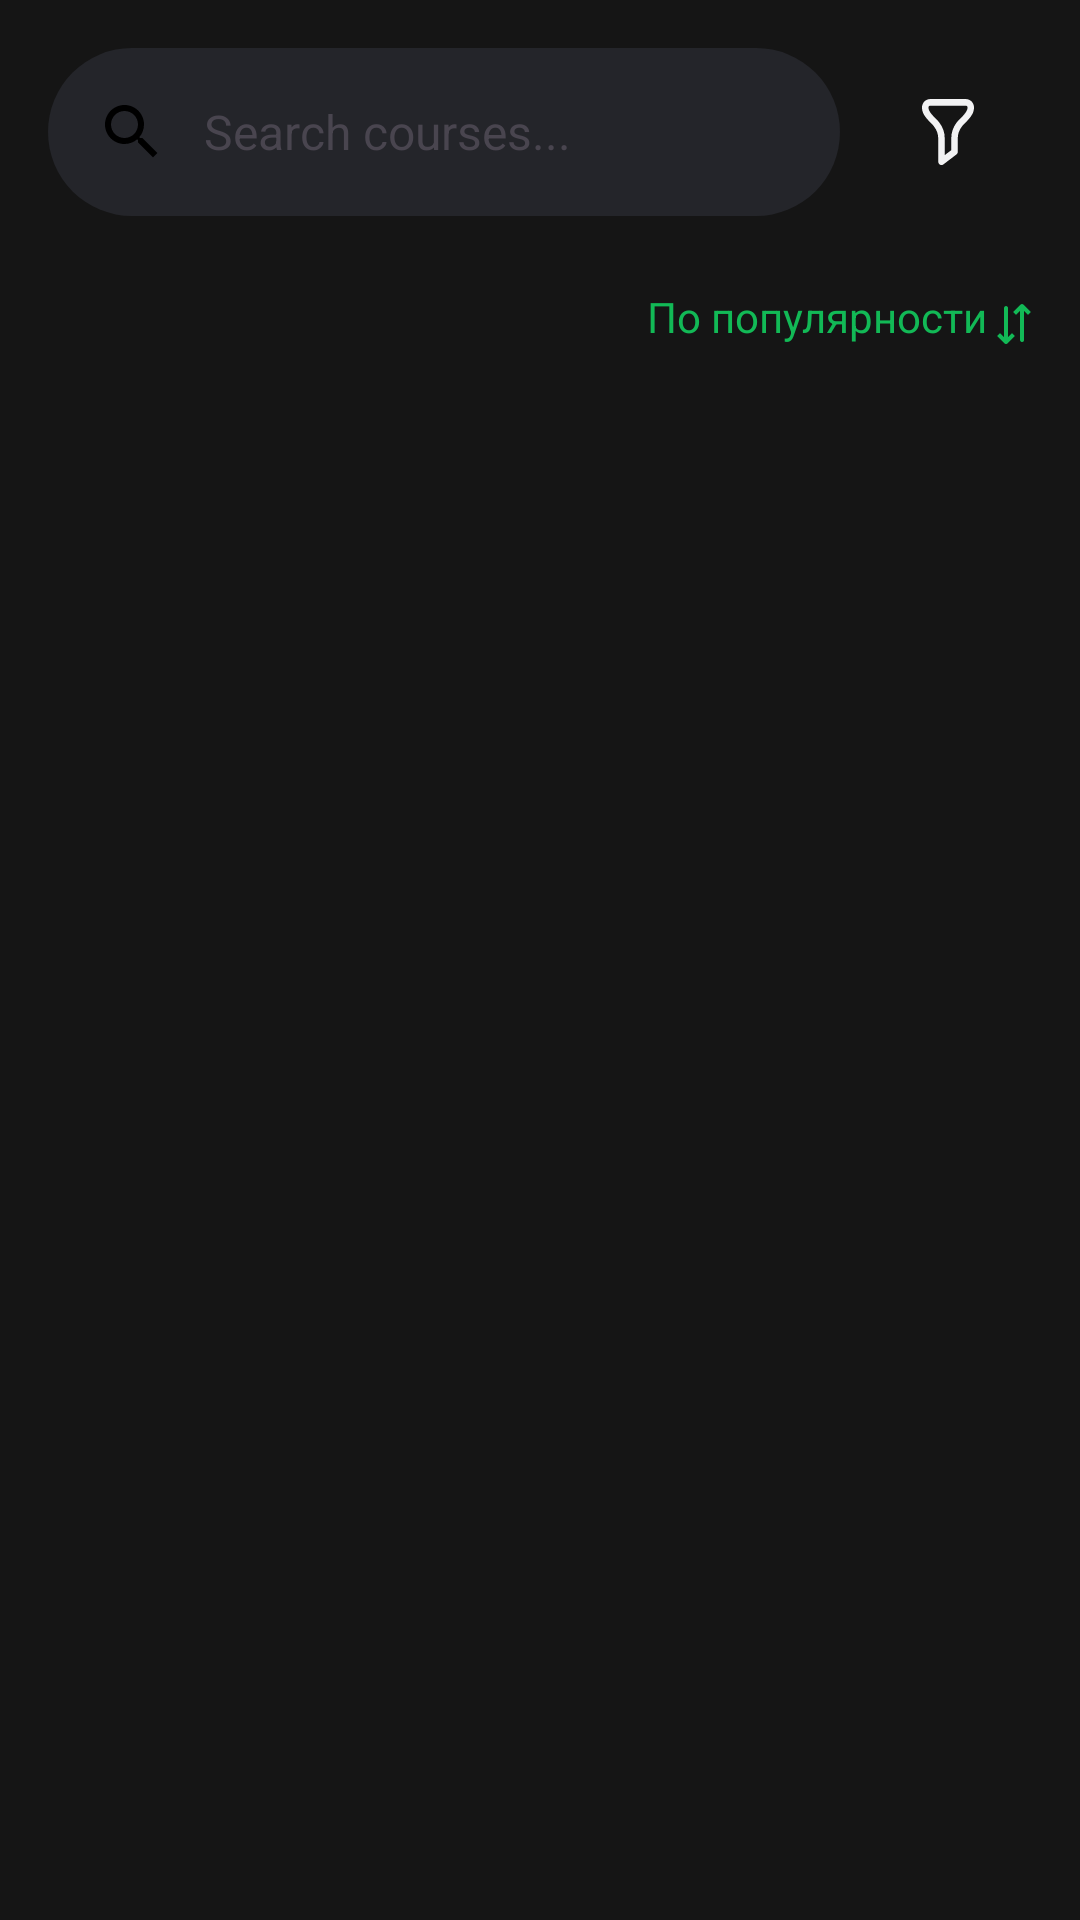

Point at icon controls on the screen. Image size 1080 x 1920, points as [x,y].
sort: [1014,324]
